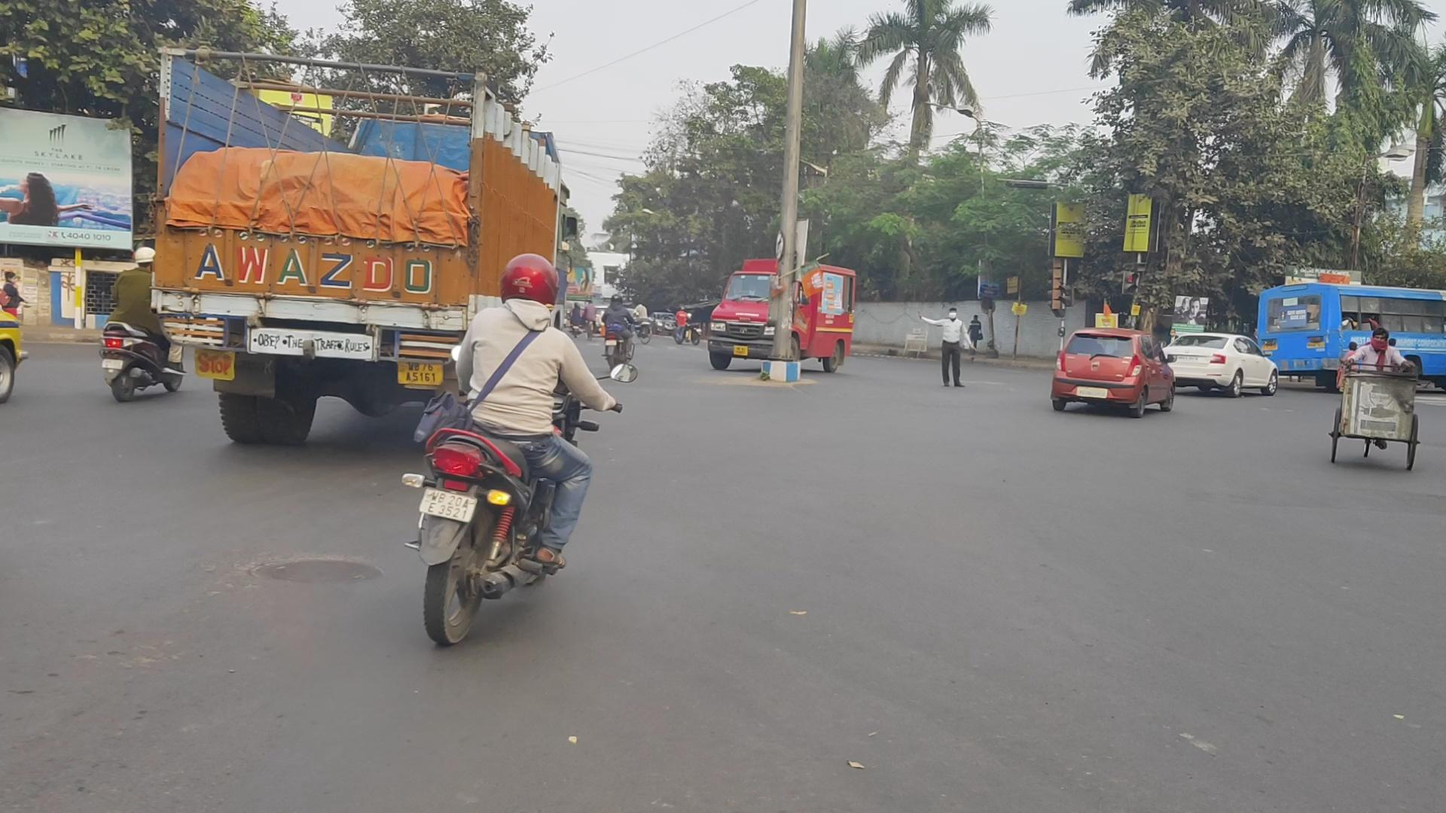Bus: (1255, 282, 1446, 397)
bike: (401, 254, 639, 647), (95, 247, 189, 404), (601, 294, 639, 376)
car: (1049, 327, 1176, 419), (1162, 332, 1280, 398)
truck: (151, 41, 581, 450), (706, 258, 857, 373)
